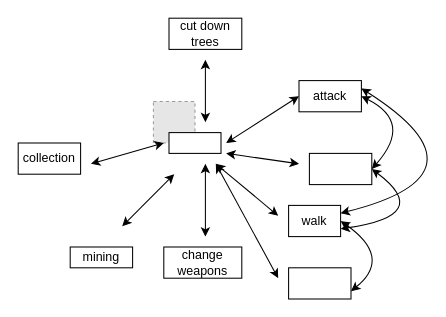
This 446x317 diagram has some shape labels left out. Grey dashed boxes stand in for pictures. The centre of each missing label's shape, as x and y in pixels:
fly: pixel 319 283
idle: pixel 194 142
jump: pixel 340 168
